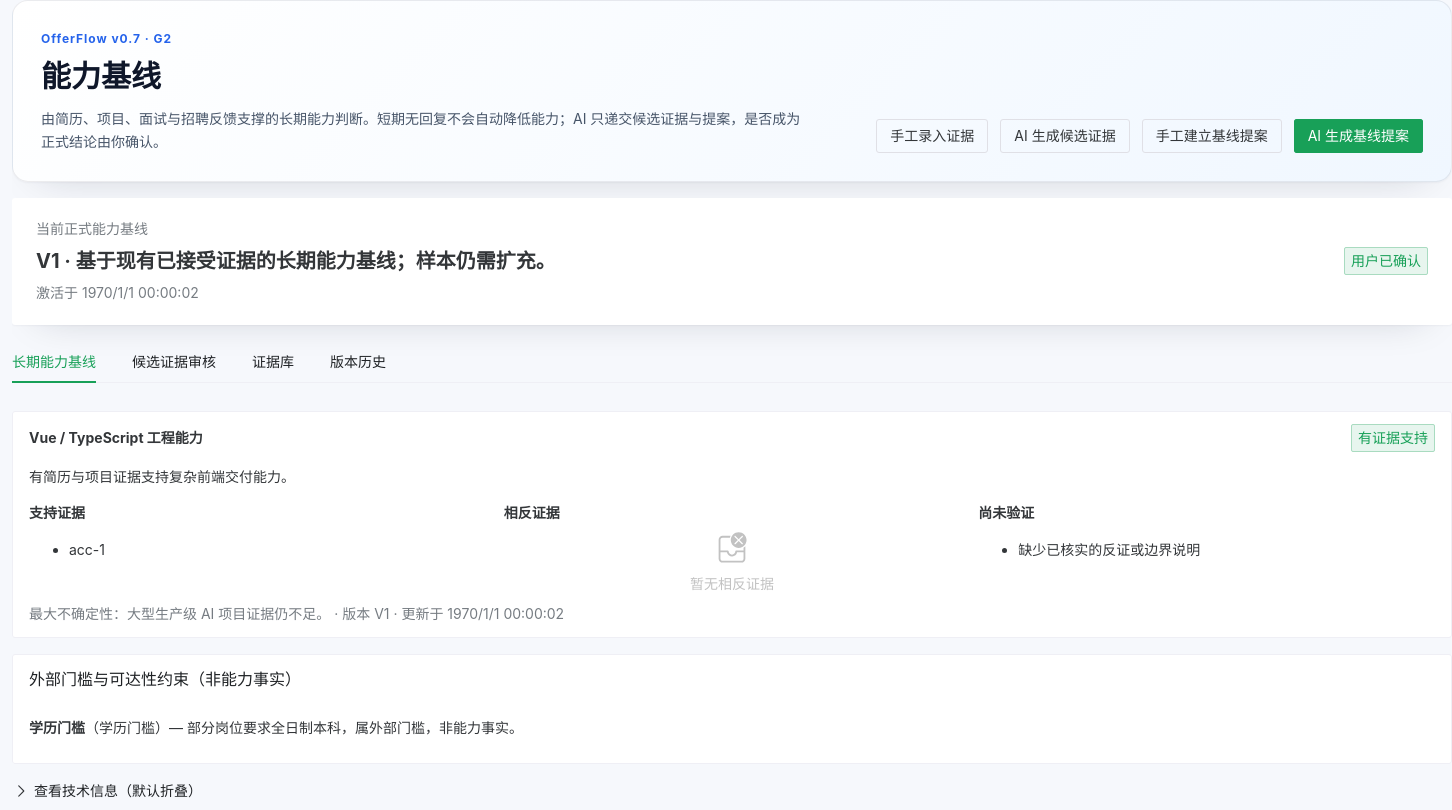
Test: CapabilityBaselinePage · 路由与页面 › 证据库同时展示支持证据与反证（反证不被隐藏）
Click the element with class "n-tabs-tab" showing "证据库" at (273, 361), box [252,353,294,370]
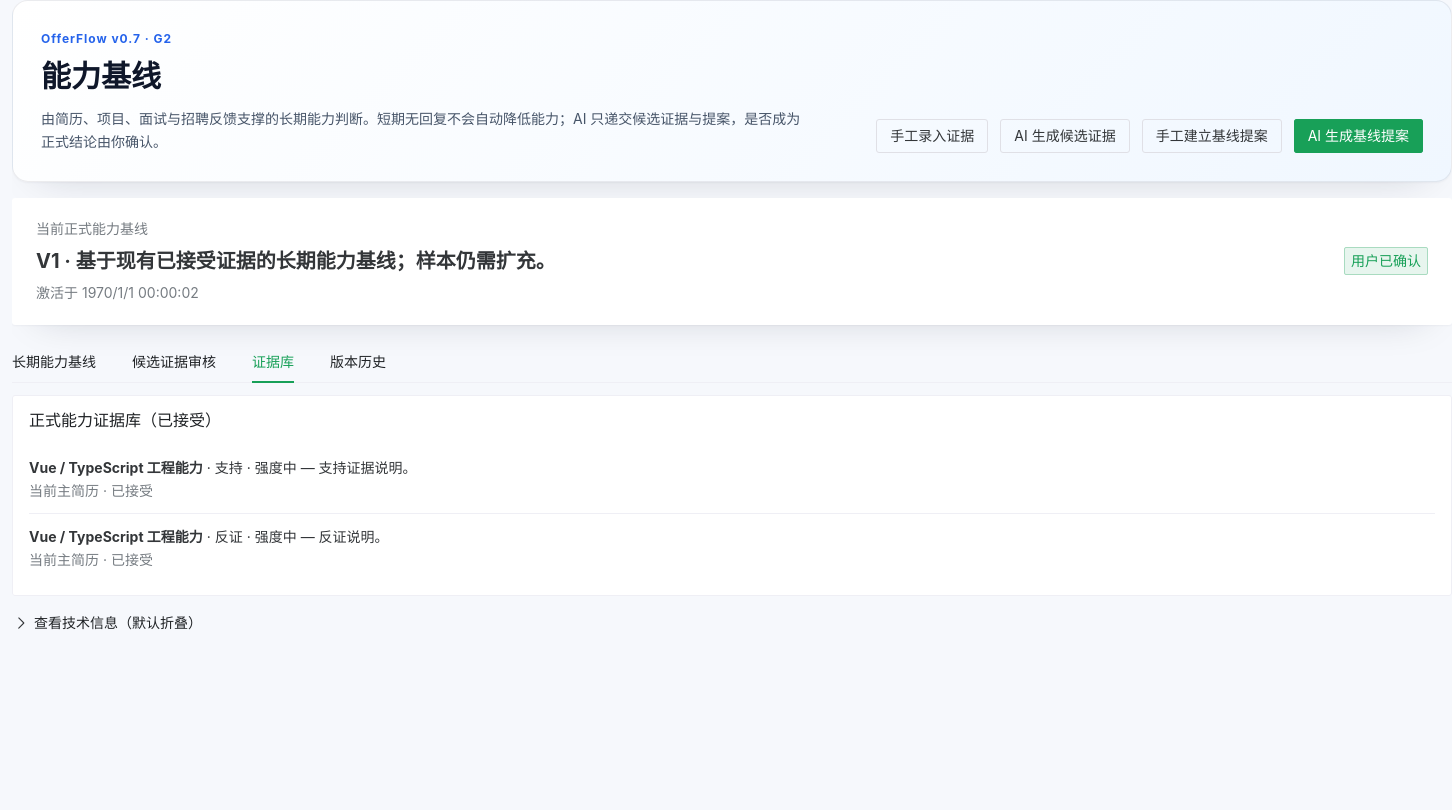
Expected: the list item with test id "cb-library-acc-1" is shown, [29,459,417,499]
Expected: the list item with test id "cb-library-acc-2" is shown, [29,528,389,568]
Expected: the element with test id "cb-library" shows "支持", [203,459,417,476]
